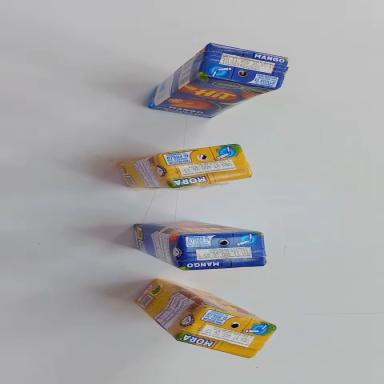HIT-MANGO: (148, 34, 290, 132), (133, 220, 266, 272)
HIT-MORA: (128, 273, 280, 368), (117, 139, 253, 198)
cara_F: (157, 270, 275, 337), (153, 67, 278, 129), (135, 218, 260, 238)
